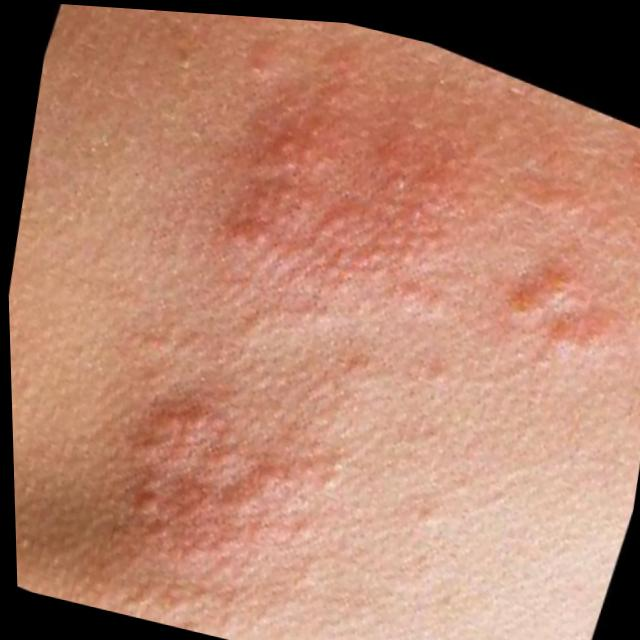Eczema: (96, 18, 640, 640)
